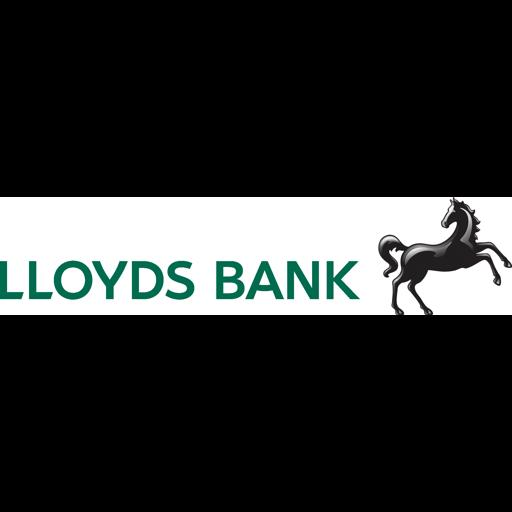Lloyds TSB Group: (0, 197, 512, 315)
